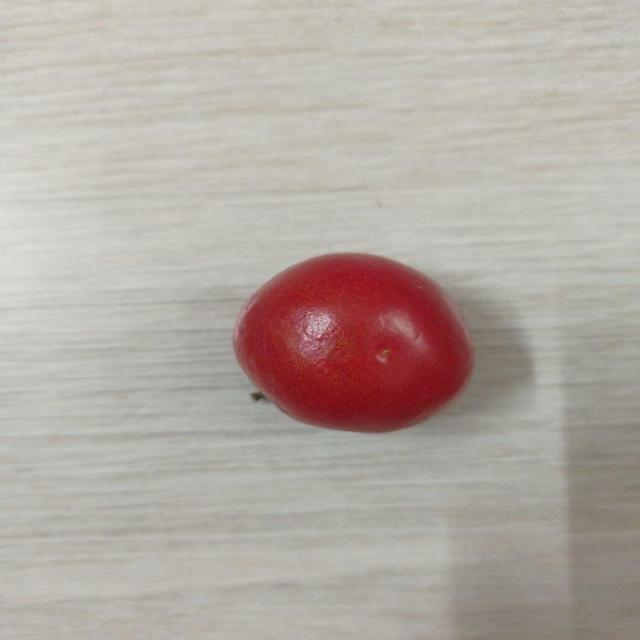Tomato: (232, 246, 479, 435)
